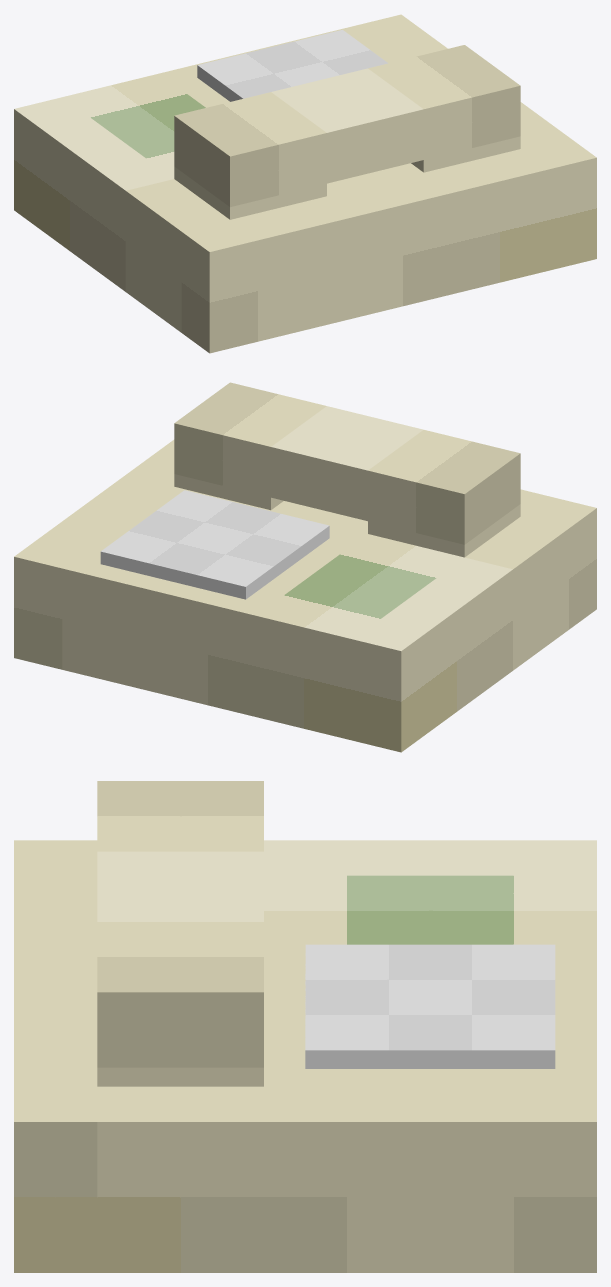
Rendered from IEDPhone.fbx.
3 views of the same model, one above another, from view 1: azimuth 30°, elevation 25°; view 2: azimuth 150°, elevation 25°; view 3: azimuth 270°, elevation 25° (orthographic). The views are drawn at different scales.
Visible parts, largest first — view 1: cube, Phone, cube_1; view 2: cube, Phone, cube_1; view 3: cube, Phone, cube_1.
Boxes of the visible parts, x1=… form: cube: x1=14, y1=14, x2=596, y2=353; Phone: x1=174, y1=45, x2=520, y2=219; cube_1: x1=197, y1=30, x2=387, y2=101; cube: x1=14, y1=439, x2=596, y2=752; Phone: x1=174, y1=382, x2=520, y2=557; cube_1: x1=100, y1=490, x2=329, y2=599; cube: x1=14, y1=840, x2=596, y2=1272; Phone: x1=97, y1=781, x2=263, y2=1086; cube_1: x1=305, y1=944, x2=555, y2=1068.
Bounding box in the file's own units: 50 × 20.31 × 43.75.
1 material, 1 textured.
